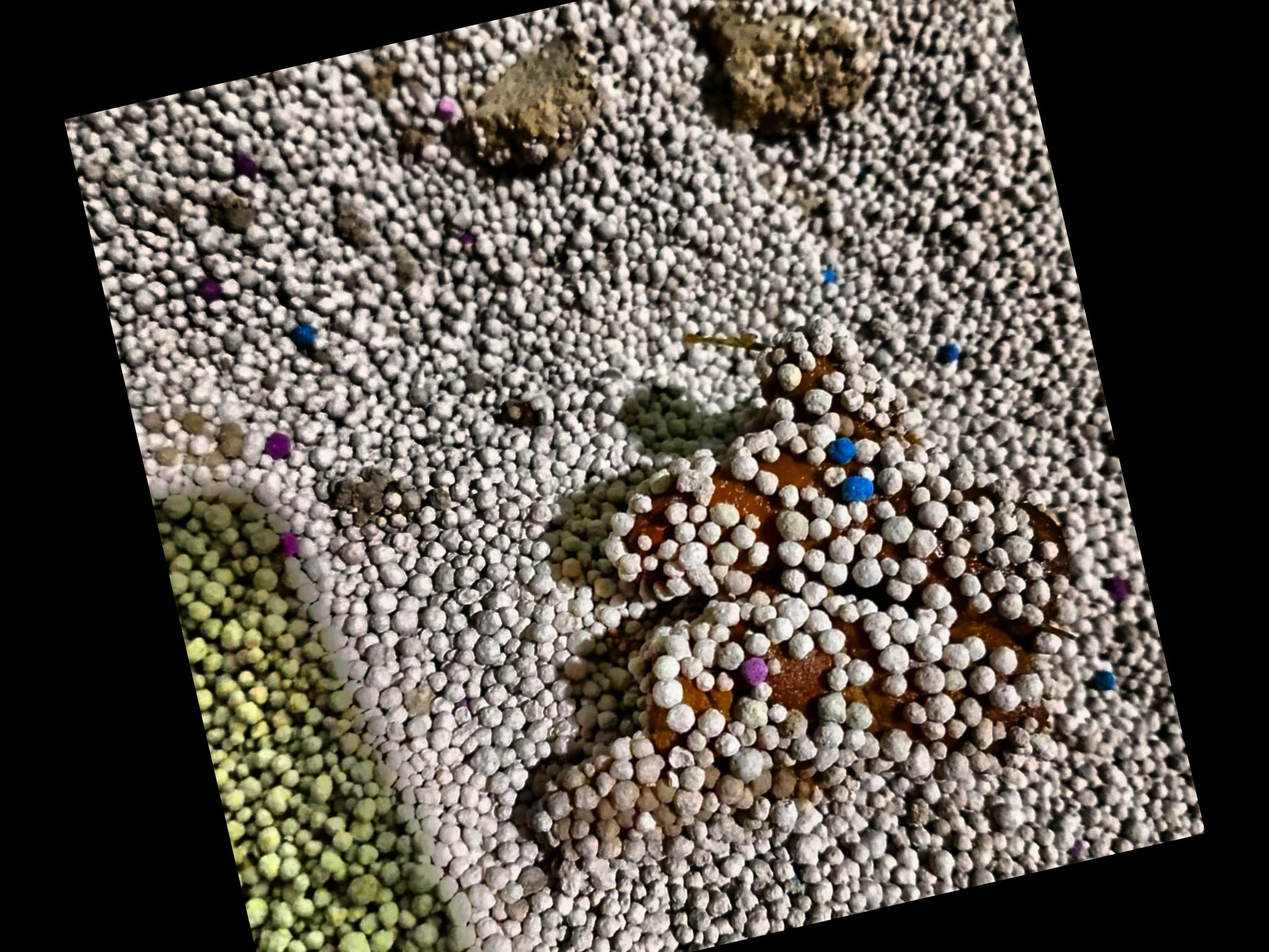poop: (548, 351, 1071, 840)
